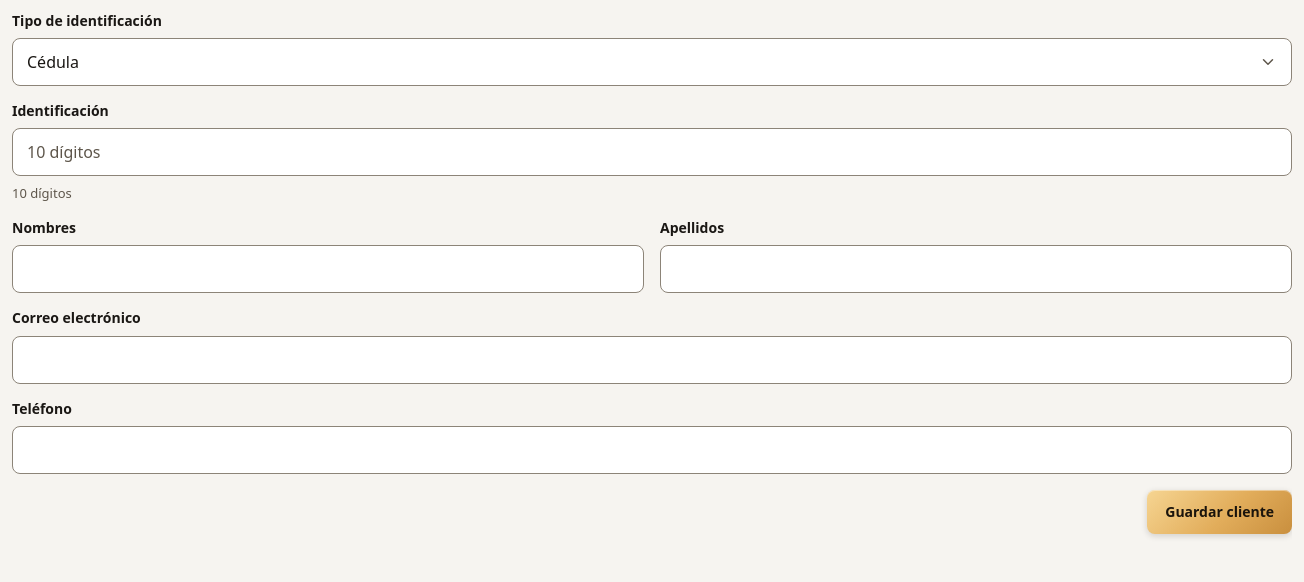
FormularioCliente › muestra el error de cédula inválida
The width and height of the screenshot is (1304, 582).
Type "1712345678" into the field labelled "Identificación" at (652, 152), box [12,128,1292,176]
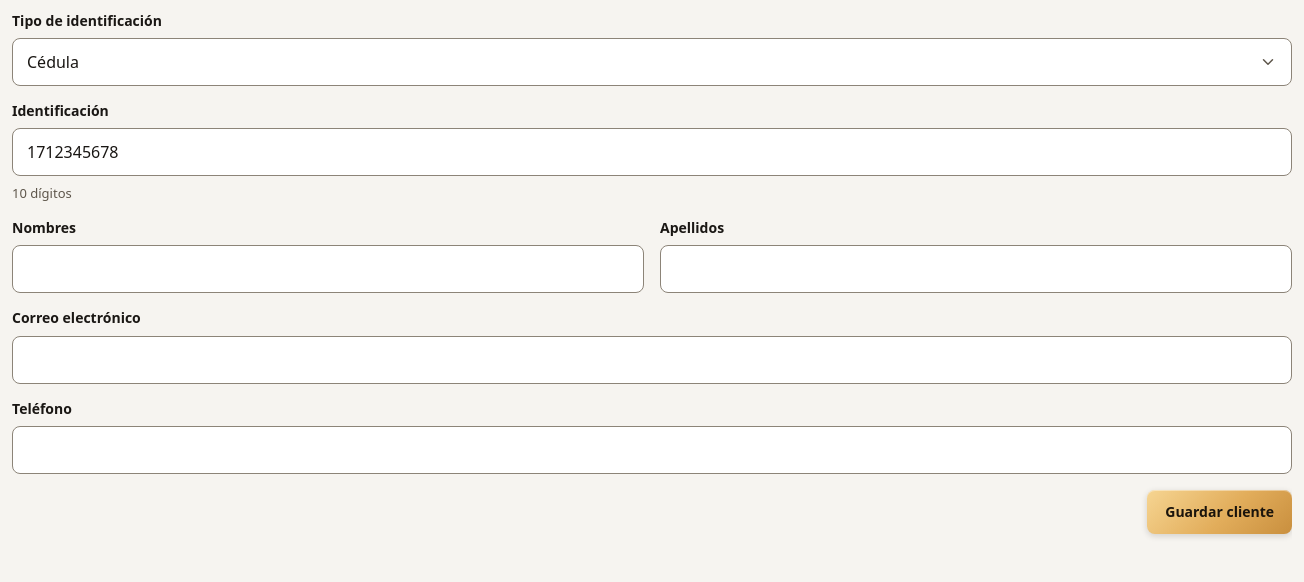
Type "Ana" into the field labelled "Nombres" at (328, 269), box [12,245,644,293]
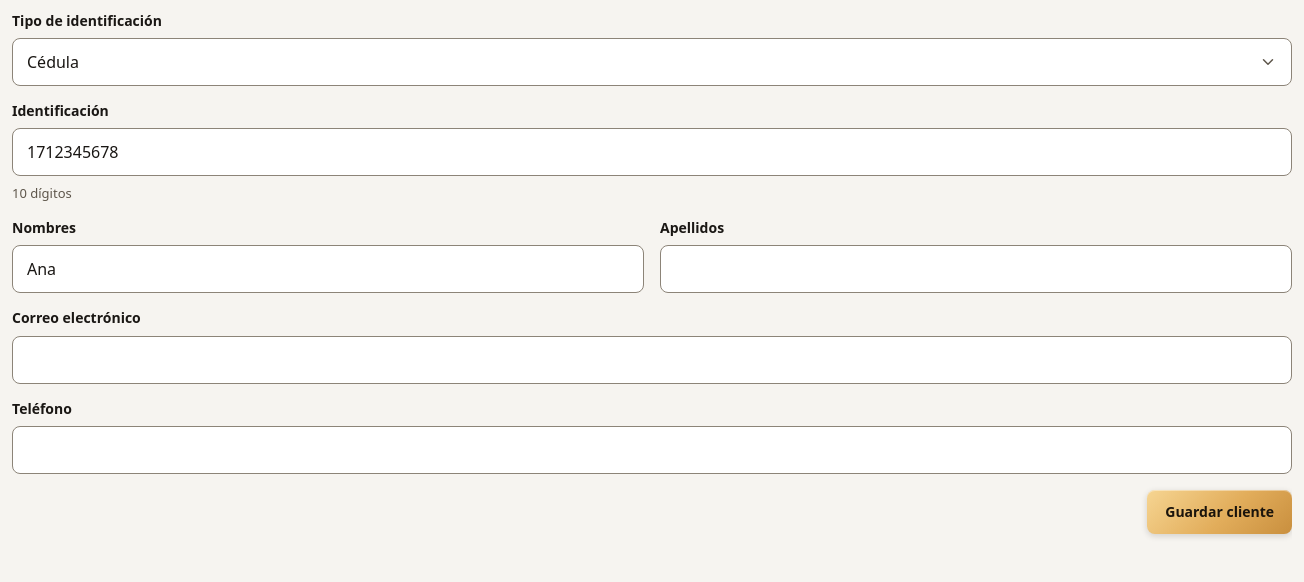
Type "Pérez" into the field labelled "Apellidos" at (976, 269), box [660,245,1292,293]
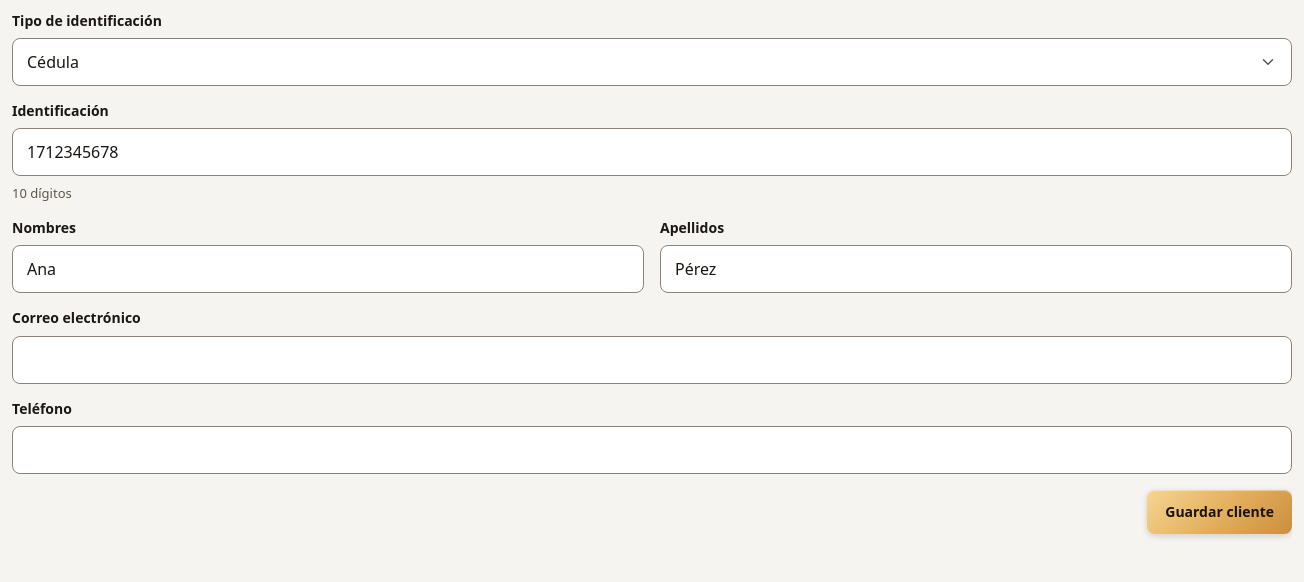
Type "ana@example.com" into the field labelled "Correo electrónico" at (652, 360), box [12,336,1292,384]
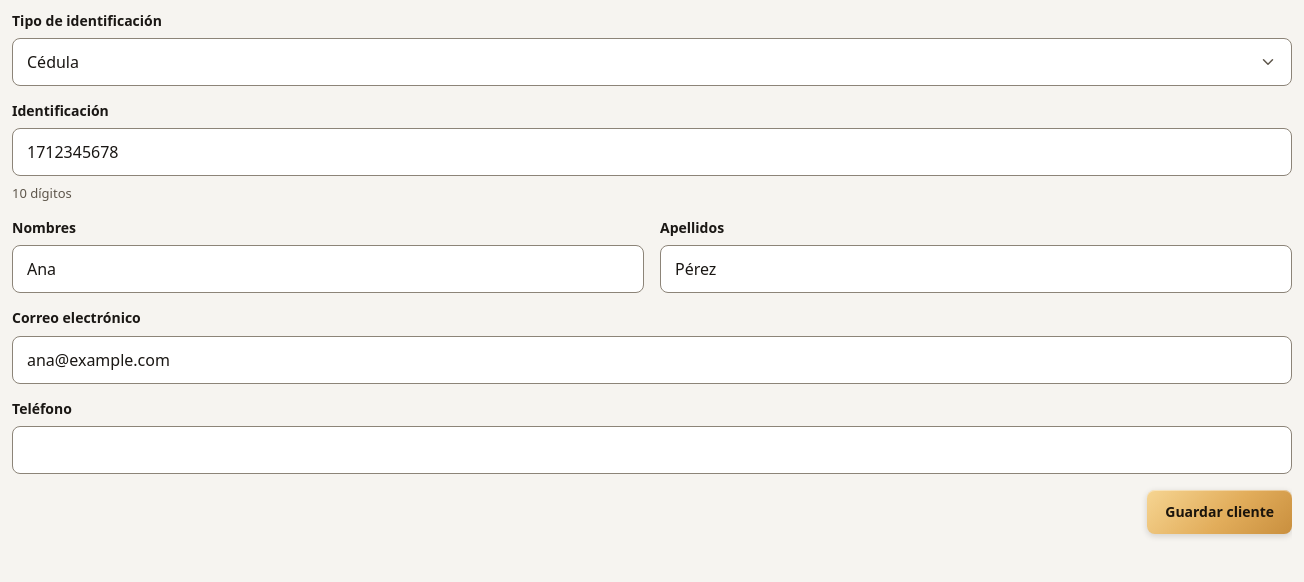
Click the button with test id "boton-guardar-cliente" at (1220, 512), box [1147,490,1292,534]
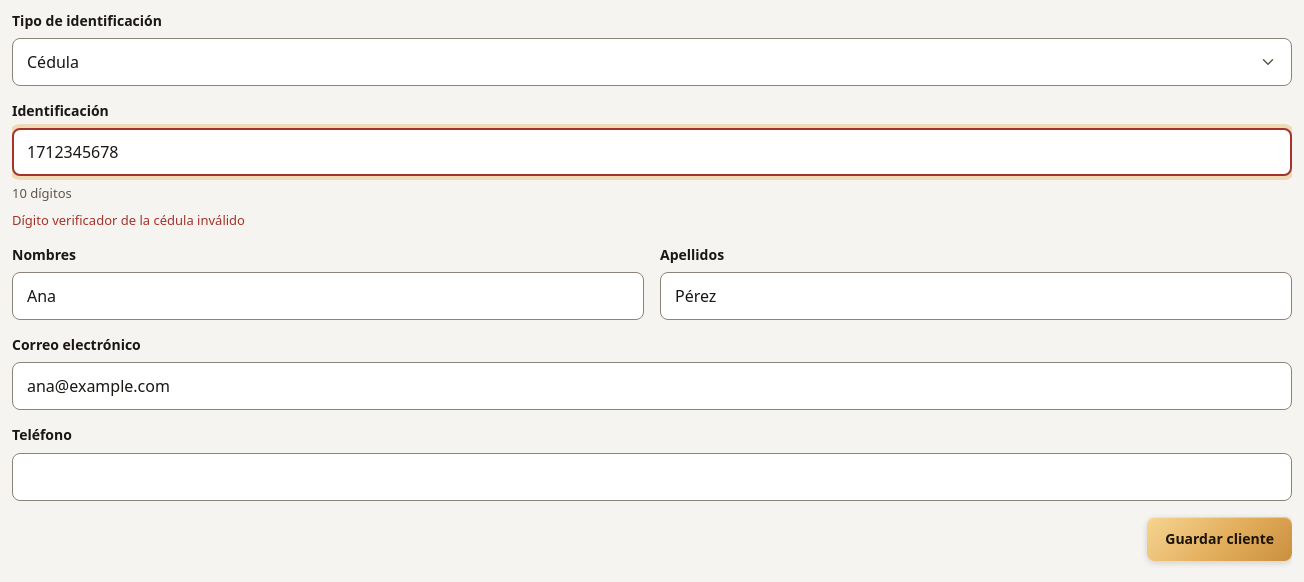
Now the text "Dígito verificador de la cédula inválido" is shown, box [12,211,245,229]
